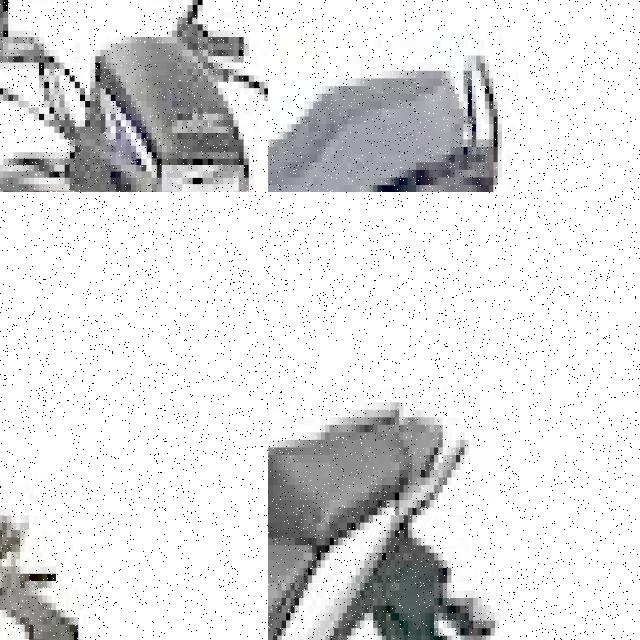bike: (268, 192, 508, 640), (268, 0, 571, 192), (0, 0, 268, 192), (0, 224, 101, 640)
